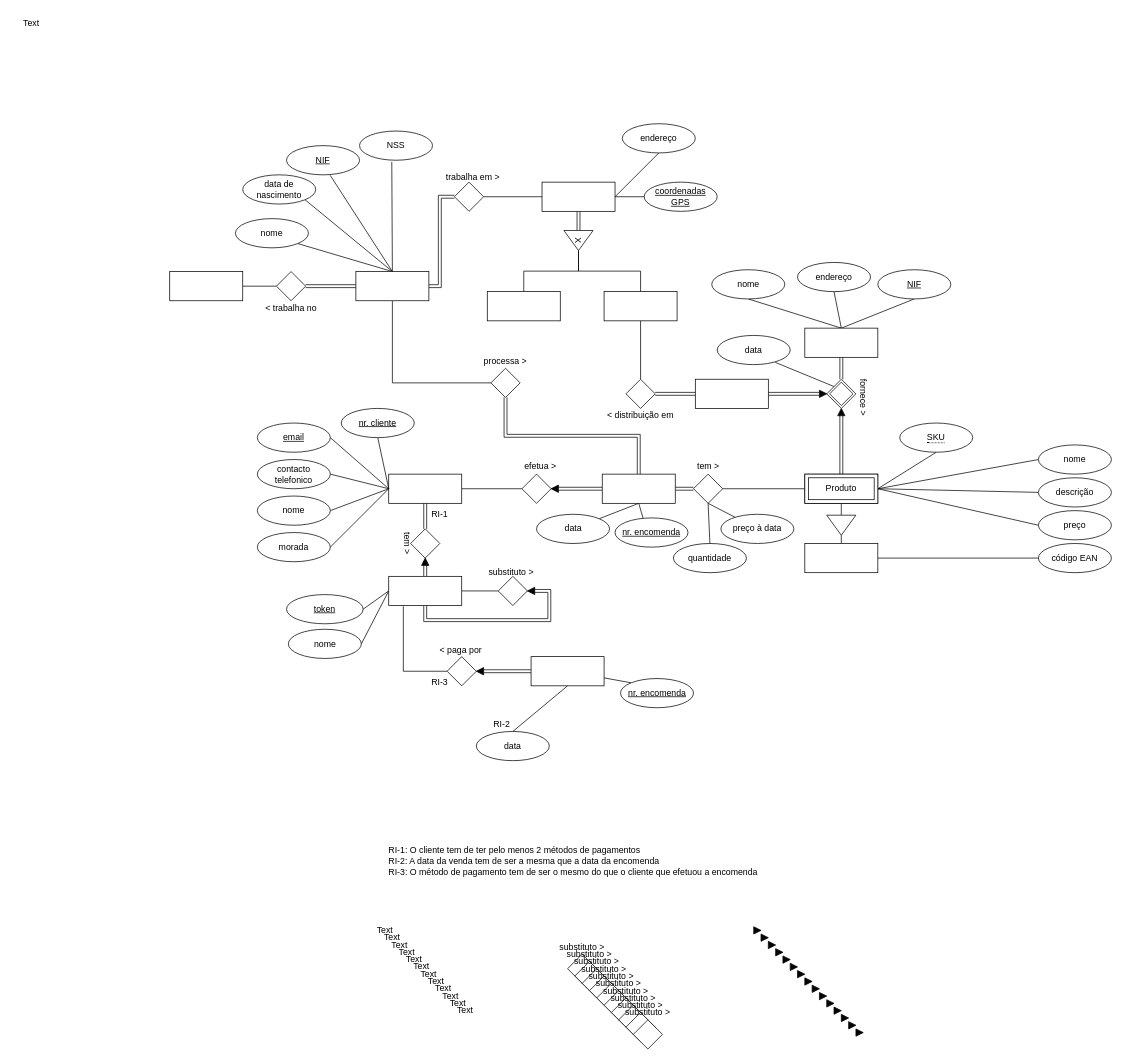
The diagram is 1124 pixels wide and 1061 high, and some of its shapes have lost their labels. The centre of each missing label's shape, as x and y in pixels:
"Armazém" goes at point 640,306.
"Cliente" goes at point 425,488.
"Contrato" goes at point 731,393.
"Departamento" goes at point 206,286.
"Empregado" goes at point 392,286.
"Encomenda" goes at point 638,488.
"Escritório" goes at point 523,306.
"Fornecedor" goes at point 841,342.
"Local de Trabalho" goes at point 578,196.
"Método de Pagamento" goes at point 425,591.
"Produto c EAN" goes at point 841,558.
"Venda" goes at point 567,671.
